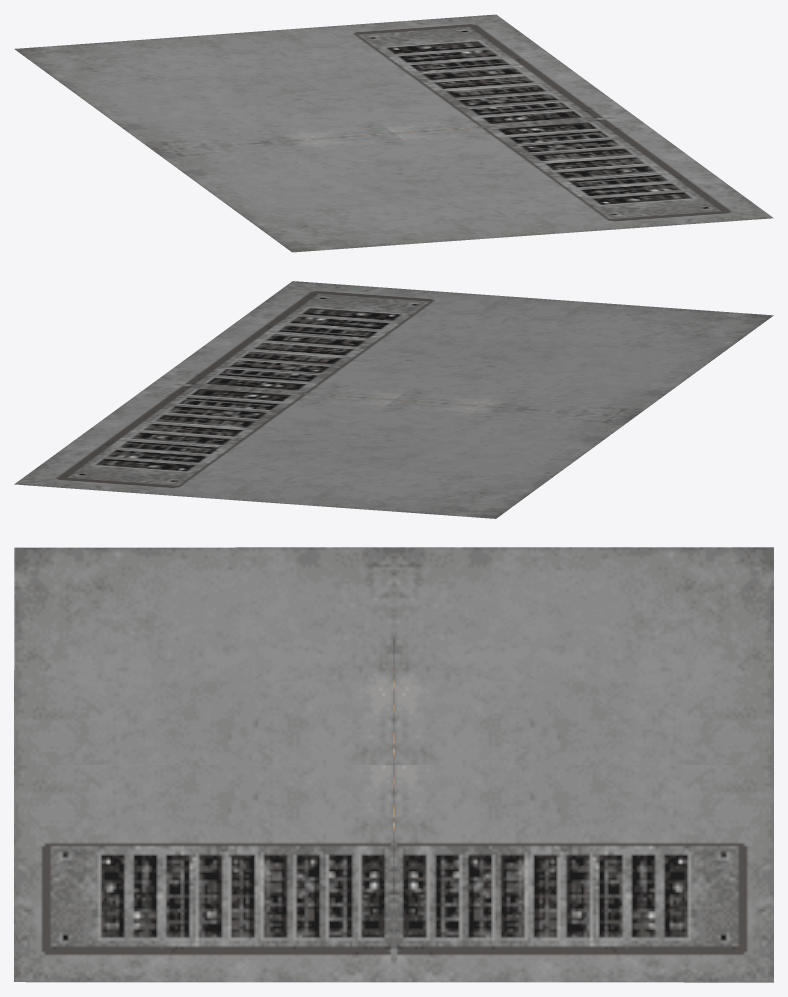
File: Tile-Slope0.fbx
3 views of the same model, one above another, from view 1: azimuth 30°, elevation 25°; view 2: azimuth 150°, elevation 25°; view 3: azimuth 270°, elevation 25° (orthographic). The views are drawn at different scales.
Visible parts, largest first — view 1: polySurface10413; view 2: polySurface10413; view 3: polySurface10413.
Part boxes in pixels (x1,y1,x2,y2): polySurface10413: (14,14,773,252); polySurface10413: (14,281,773,518); polySurface10413: (14,547,773,982).
Size of the model in its own units: 1 by 0.165 by 0.9997.
1 material, 1 textured.
